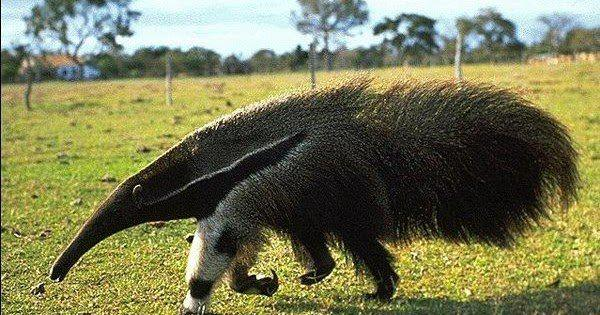TamanduaBandeira: (46, 72, 577, 310)
